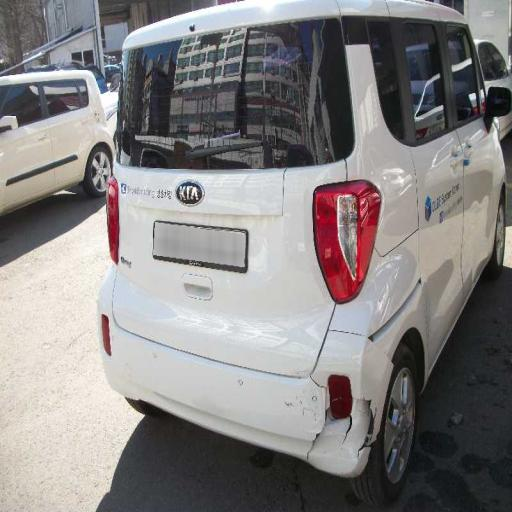broken: (300, 343, 398, 501)
dent: (127, 265, 383, 372)
